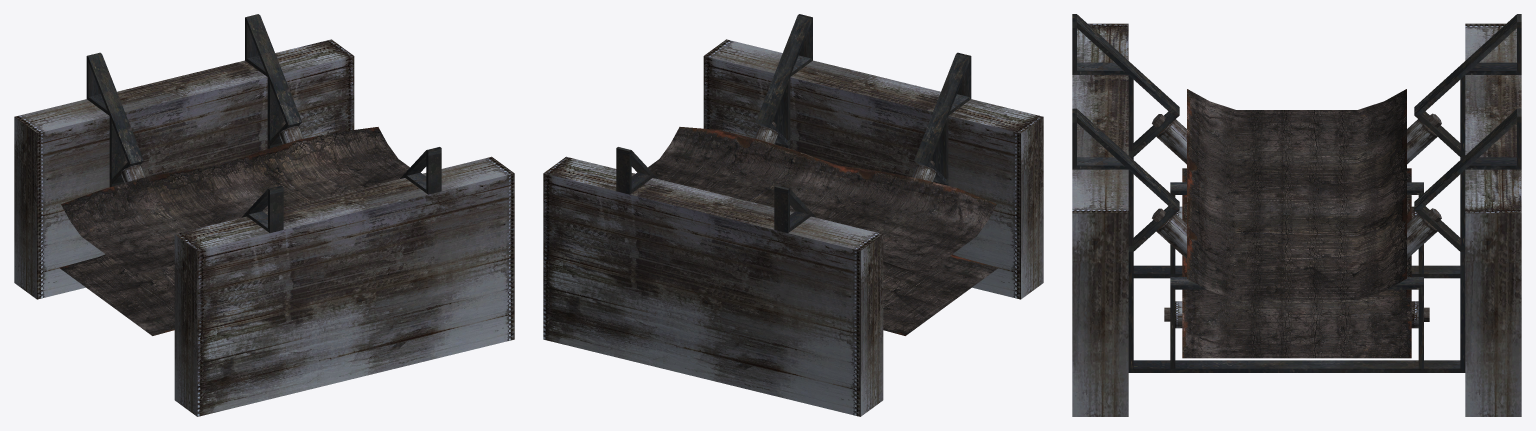
File: conveyor_section_01_clean.DAE
The picture shows the model from 3 angles, left to right: view 1: azimuth 30°, elevation 25°; view 2: azimuth 150°, elevation 25°; view 3: azimuth 270°, elevation 25°; orthographic projection. The views are drawn at different scales.
Visible parts, largest first — view 1: Object027, Object028, Box010; view 2: Object027, Object028, Box010; view 3: Object028, Object027, Box010.
Boxes of the visible parts, <box> form: Object027: <box>14,39,514,416</box>; Object028: <box>59,127,409,335</box>; Box010: <box>86,14,441,232</box>; Object027: <box>543,39,1043,416</box>; Object028: <box>648,127,998,335</box>; Box010: <box>616,14,971,232</box>; Object028: <box>1182,89,1411,358</box>; Object027: <box>1072,23,1521,416</box>; Box010: <box>1072,14,1521,372</box>.
Size of the model in its own units: 4 by 2.52 by 4.
